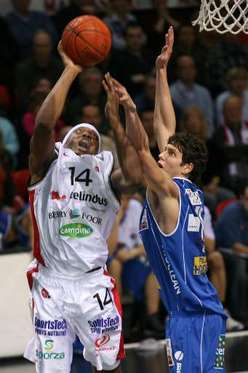basketball: (62, 15, 111, 66)
